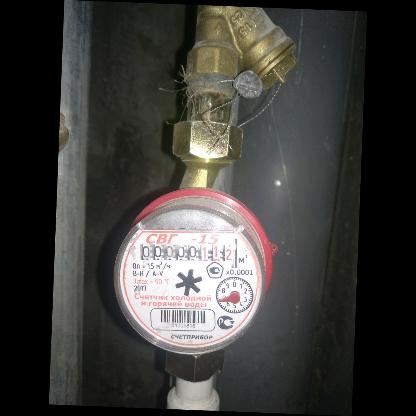digital_screen: (139, 243, 202, 261)
